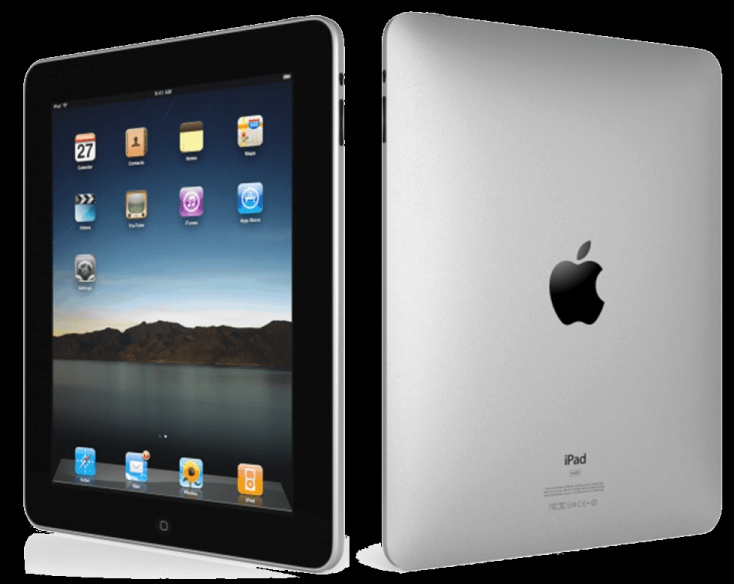apple: (534, 219, 618, 343)
